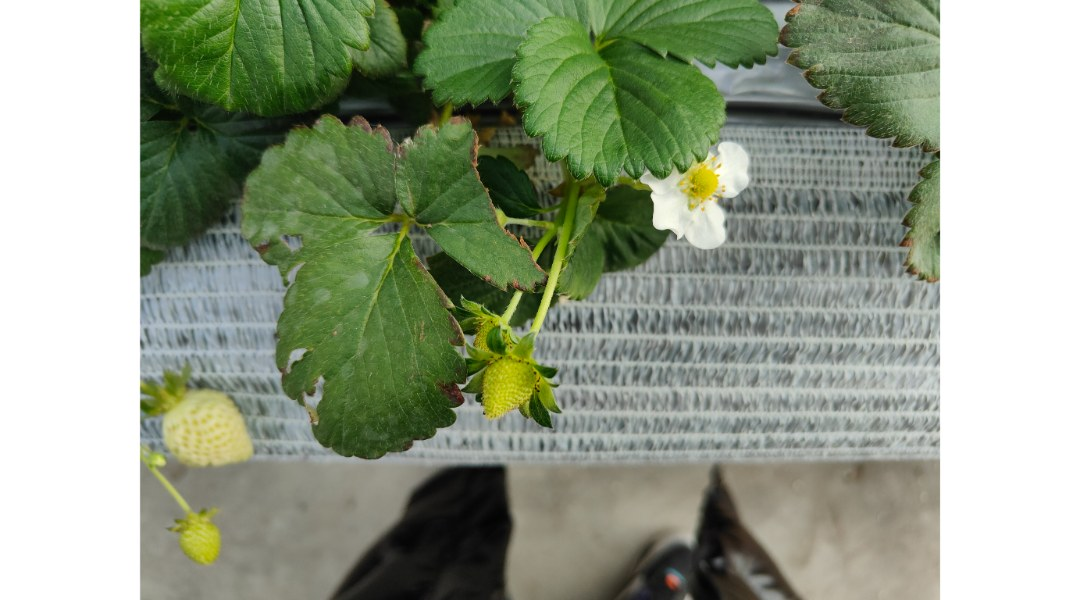flower: (632, 133, 755, 261), (457, 325, 578, 438), (152, 368, 265, 483), (447, 297, 519, 371), (177, 504, 223, 567)
strain: (529, 174, 578, 364), (111, 443, 198, 515), (513, 213, 558, 233)
